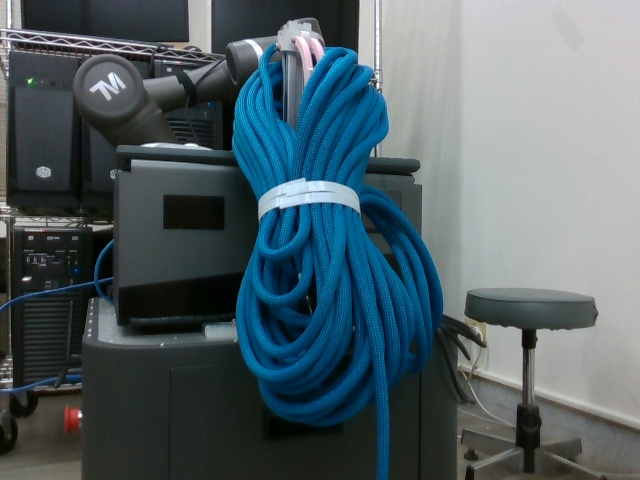rope: (227, 36, 448, 480)
